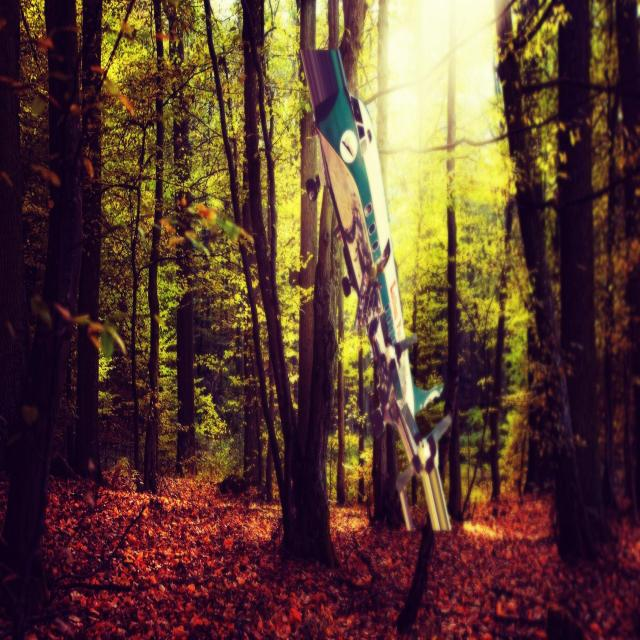airplane: (298, 46, 453, 534)
